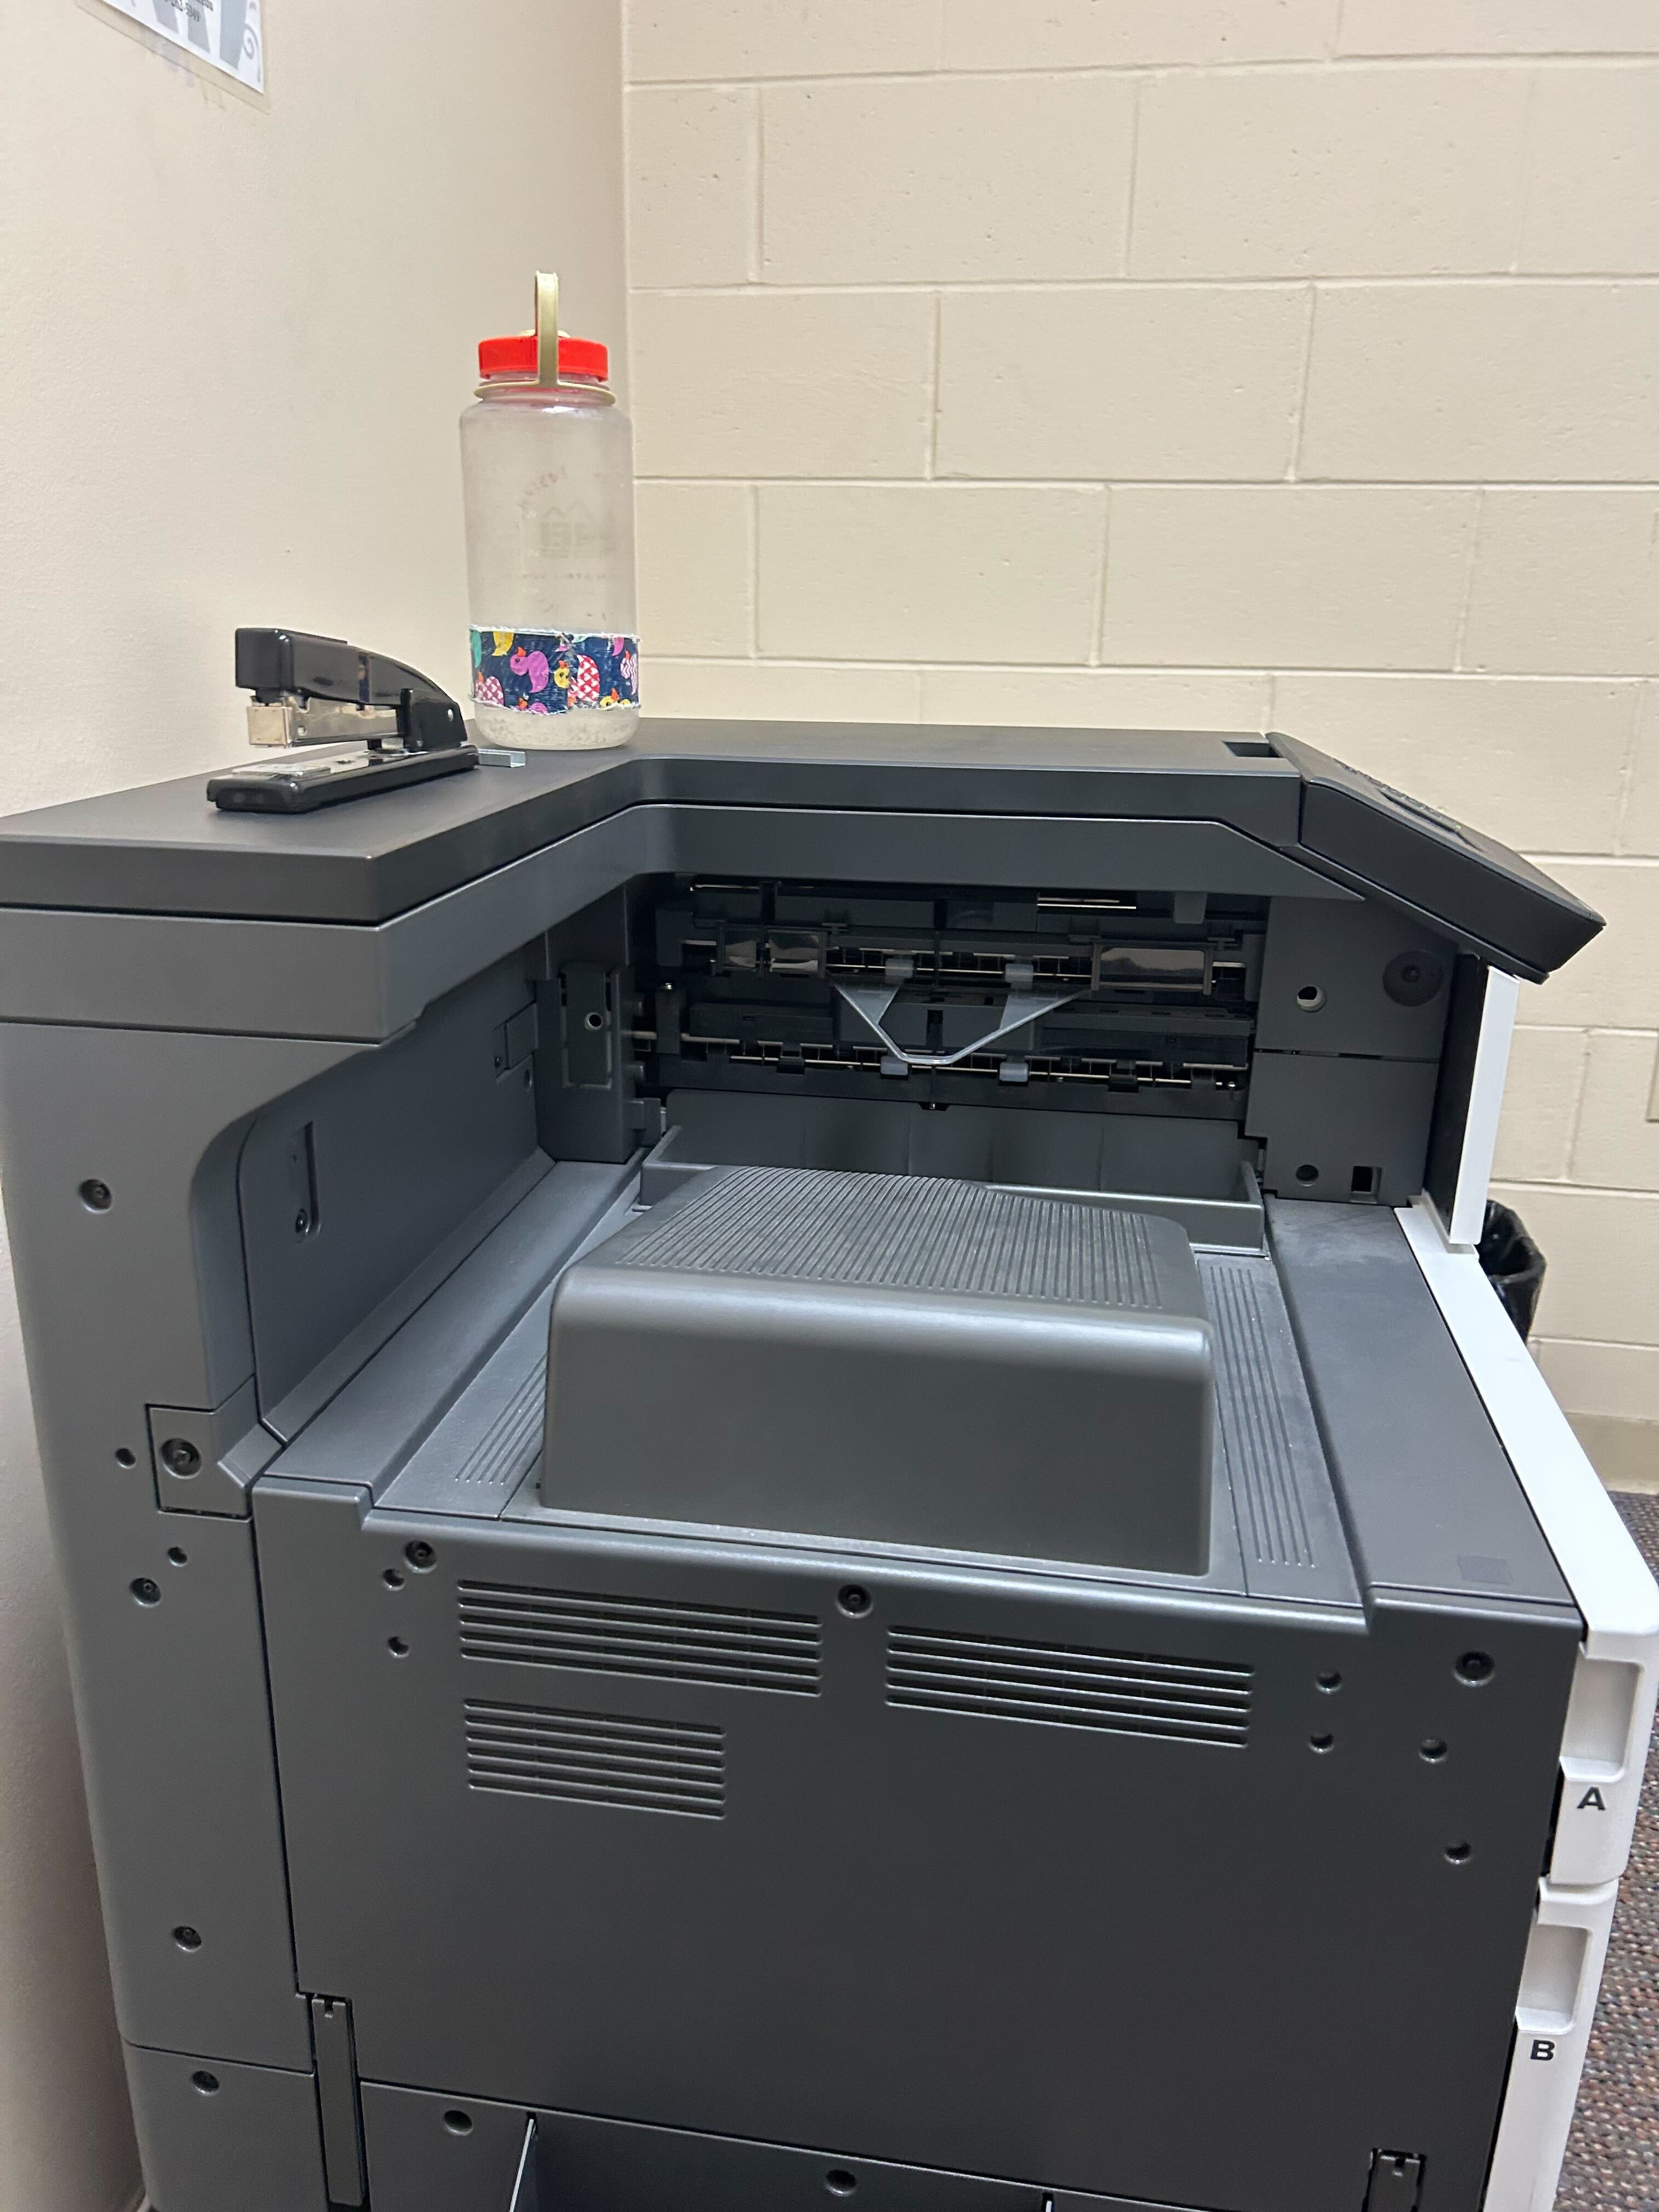bottle: (453, 263, 641, 759)
